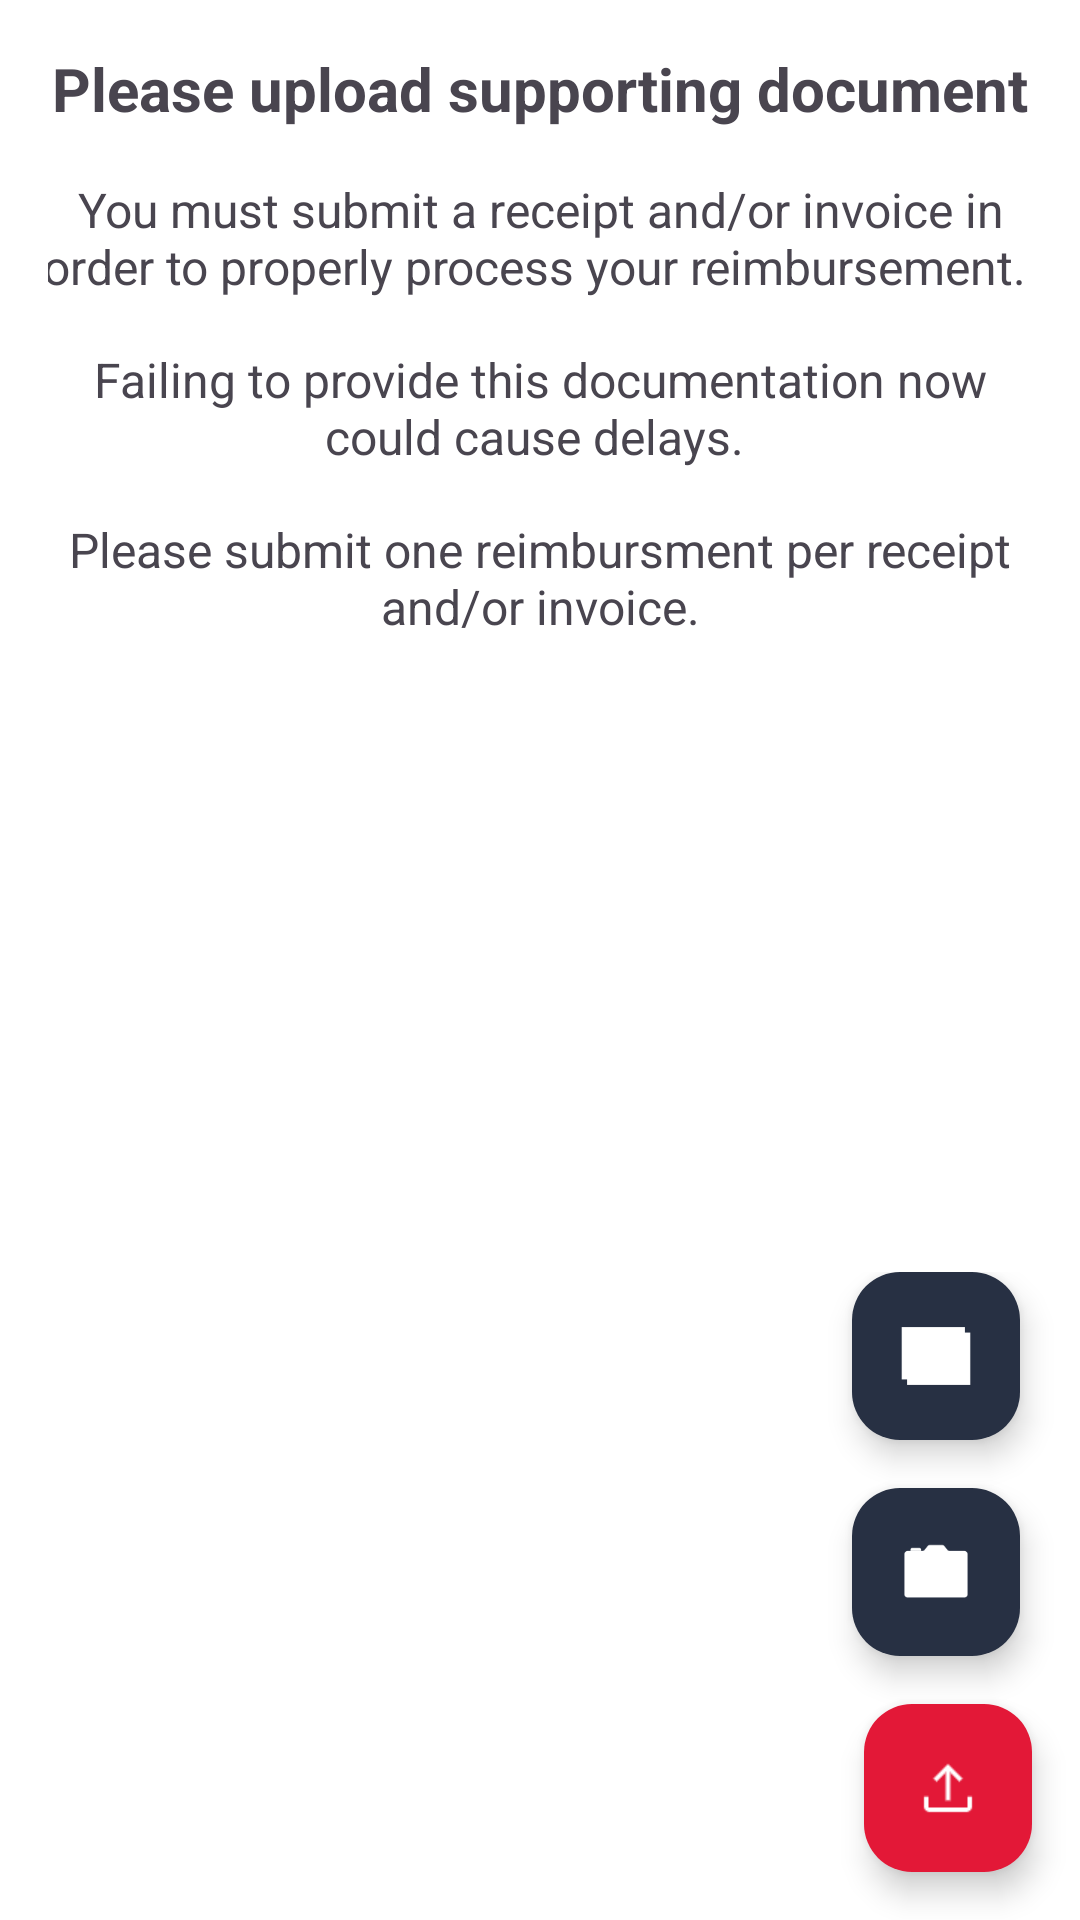

Where icons sit on this 1080x1920 app screen, as (x1, y1, x2, y2):
camera: (852, 1488, 1020, 1656)
gallery: (852, 1272, 1020, 1440)
upload: (864, 1704, 1032, 1872)
